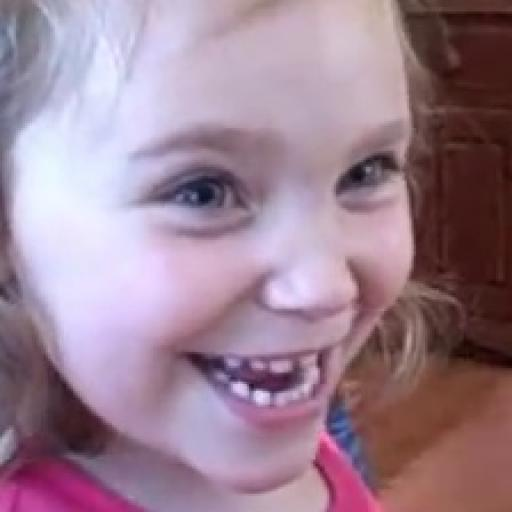Autism: (40, 6, 428, 512)
